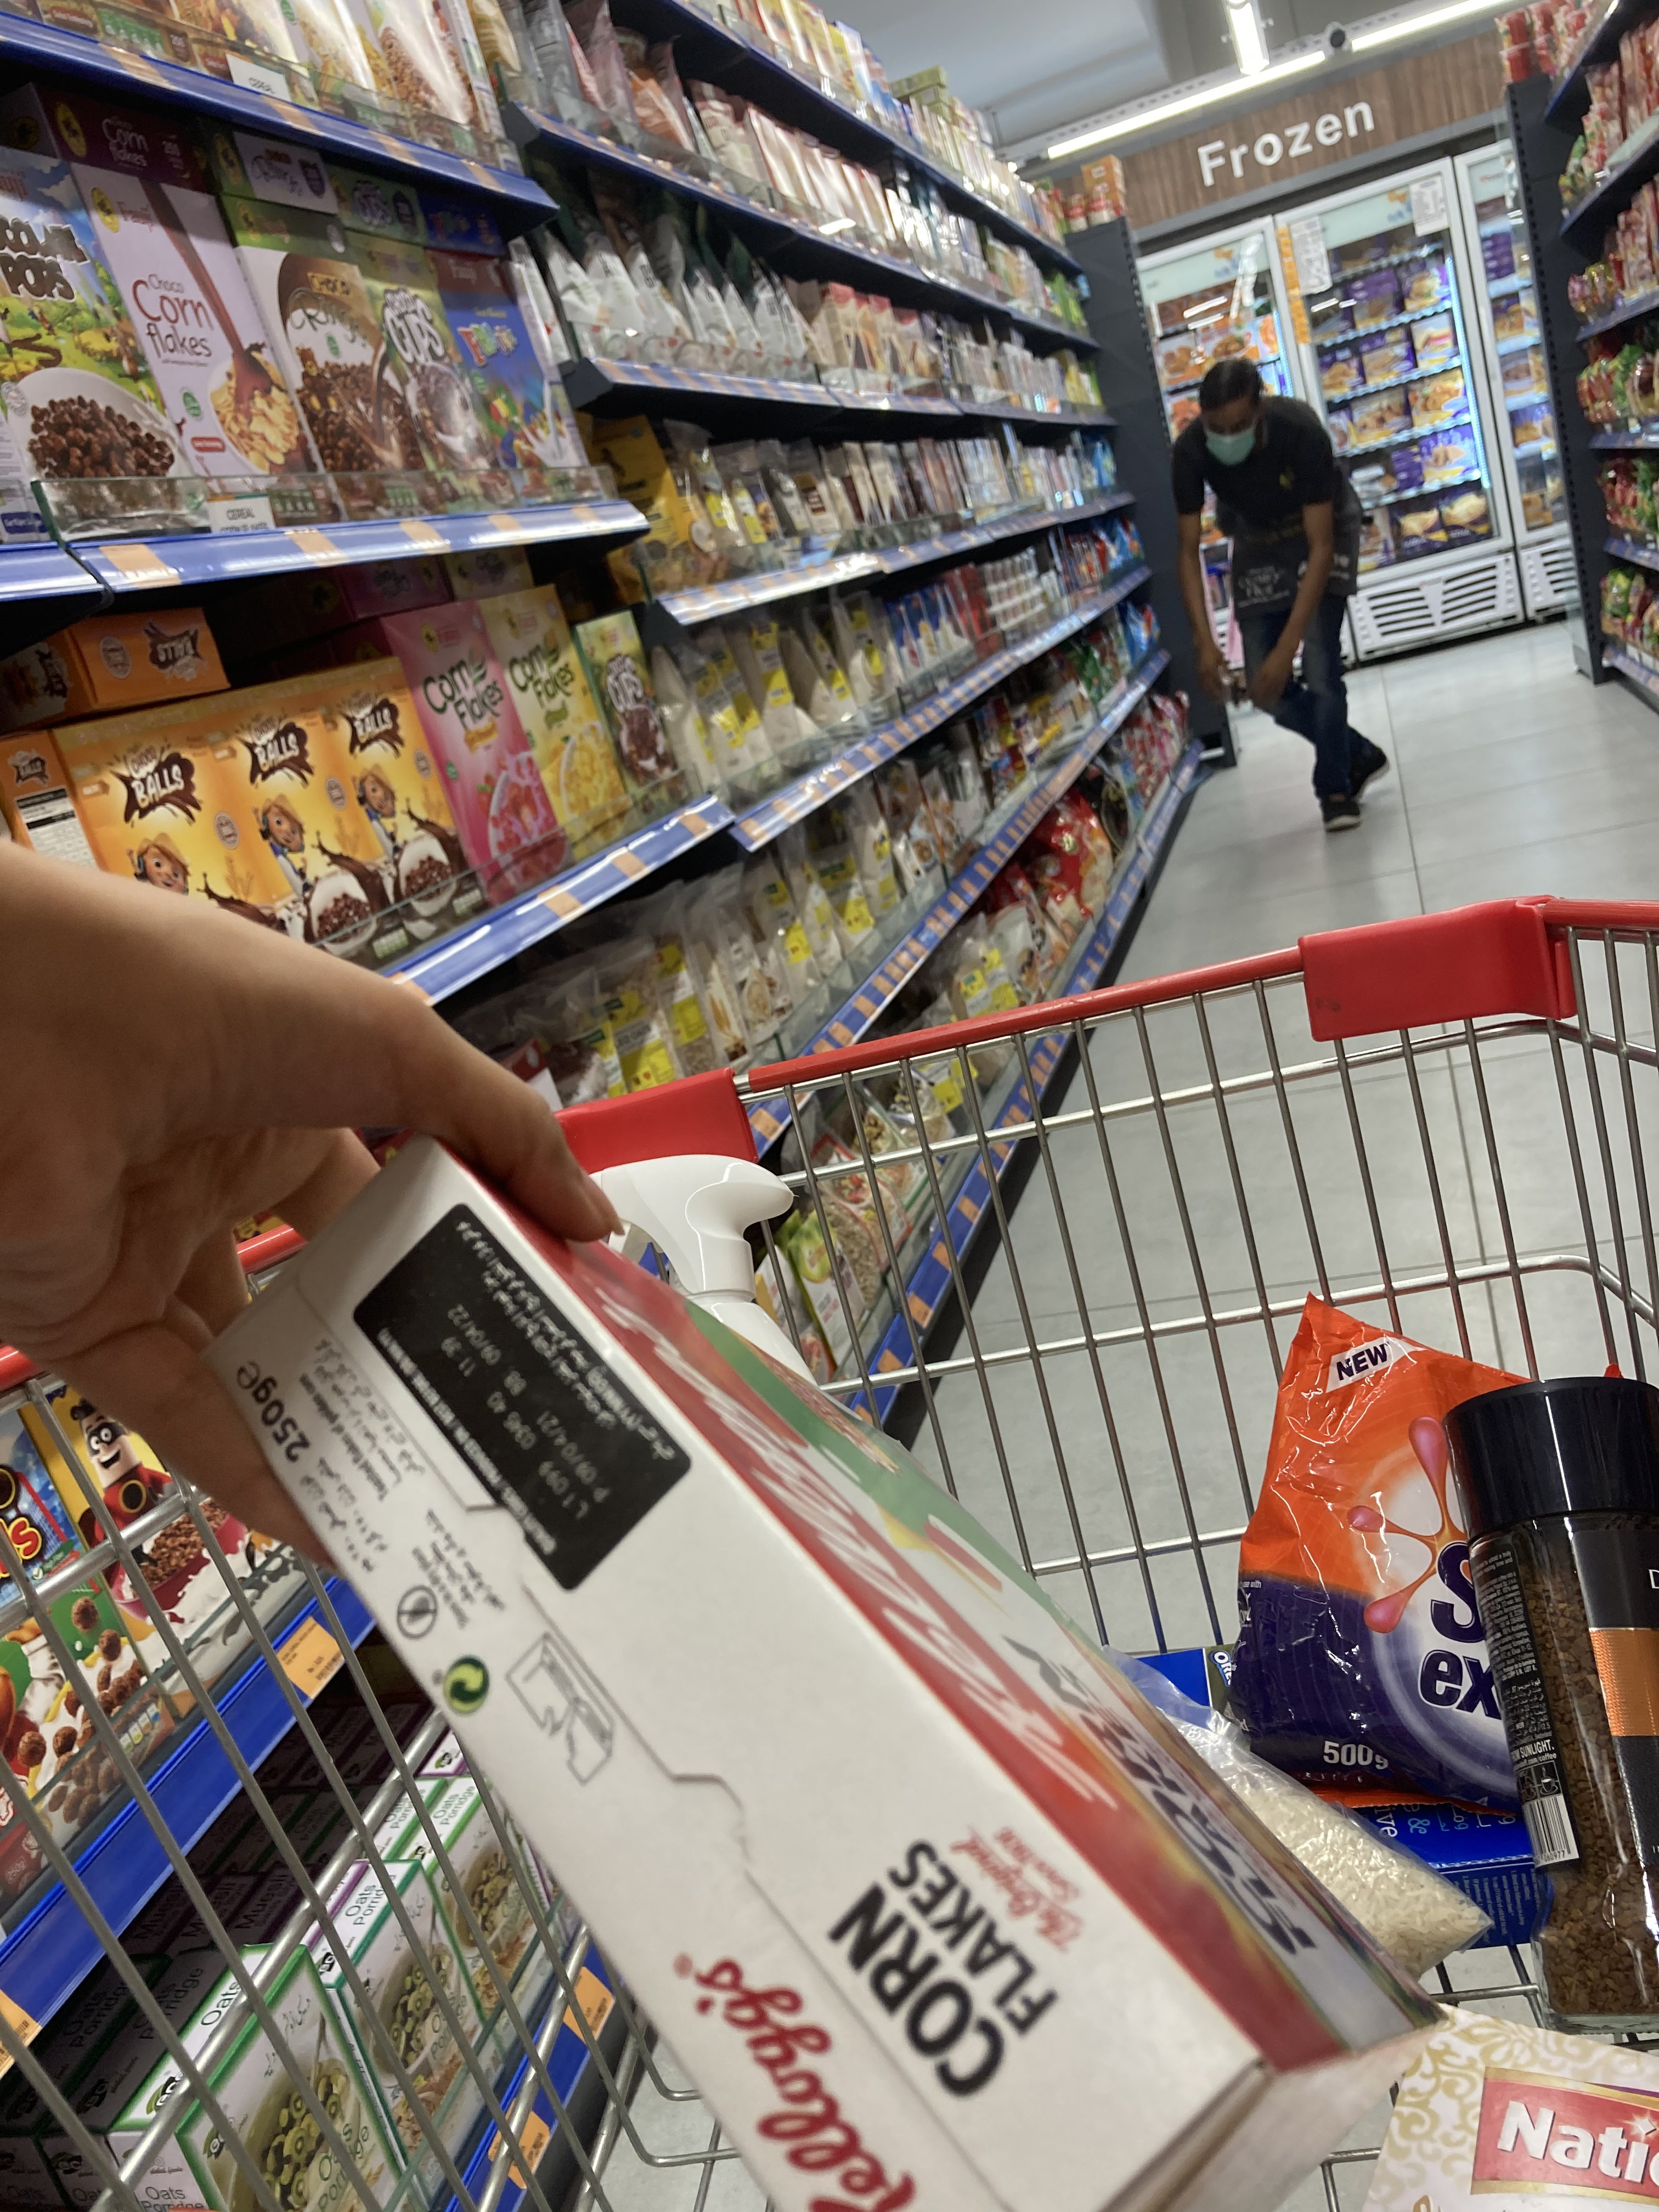Kellogg's Corn Flakes: (193, 1148, 1459, 2212)
